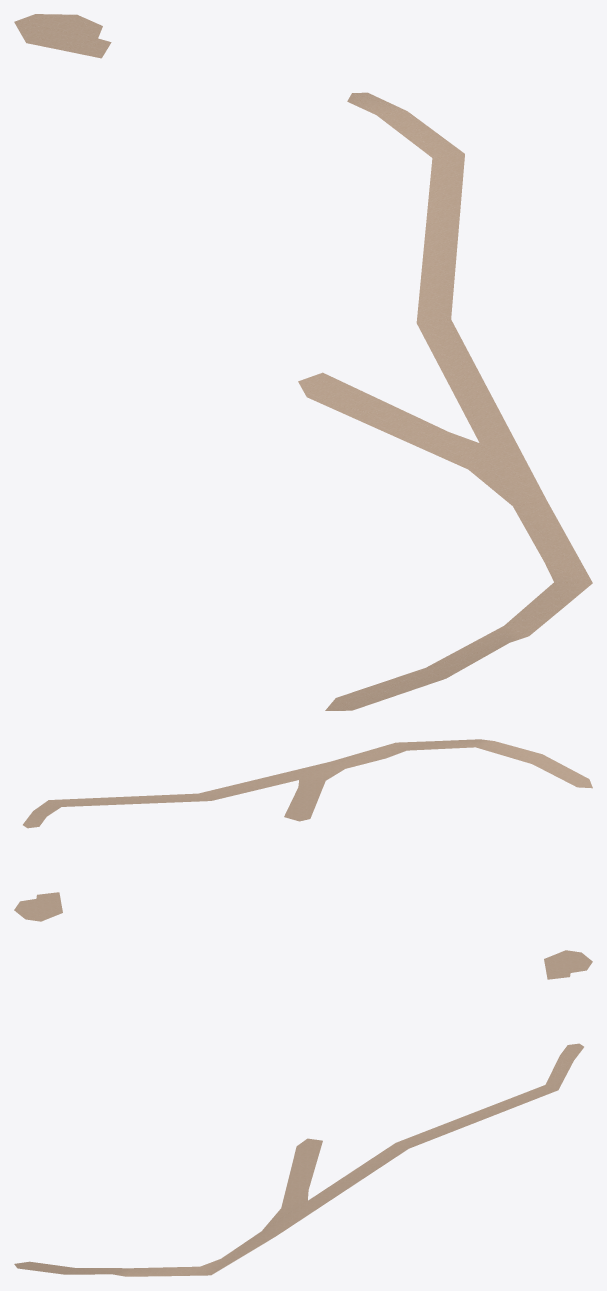
File: kd_stage_1364a3_7_15.glb
The picture shows the model from 3 angles, top to bottom: view 1: azimuth 30°, elevation 25°; view 2: azimuth 150°, elevation 25°; view 3: azimuth 330°, elevation 25°; orthographic projection. The views are drawn at different scales.
Parts seen in each view (by area): view 1: kd_stage_1364a3_7_15; view 2: kd_stage_1364a3_7_15; view 3: kd_stage_1364a3_7_15.
Boxes of the visible parts, x1,y1,x2,y2 form: kd_stage_1364a3_7_15: (14,14,592,710); kd_stage_1364a3_7_15: (14,739,592,921); kd_stage_1364a3_7_15: (14,950,592,1276).
Size of the model in its own units: 55.17 by 15.17 by 116.
Materials: 1 (1 with a texture image).
